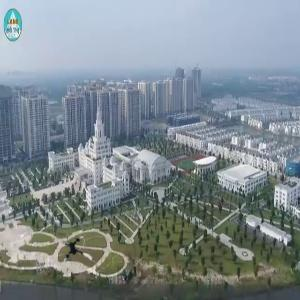drone: (60, 235, 96, 271)
